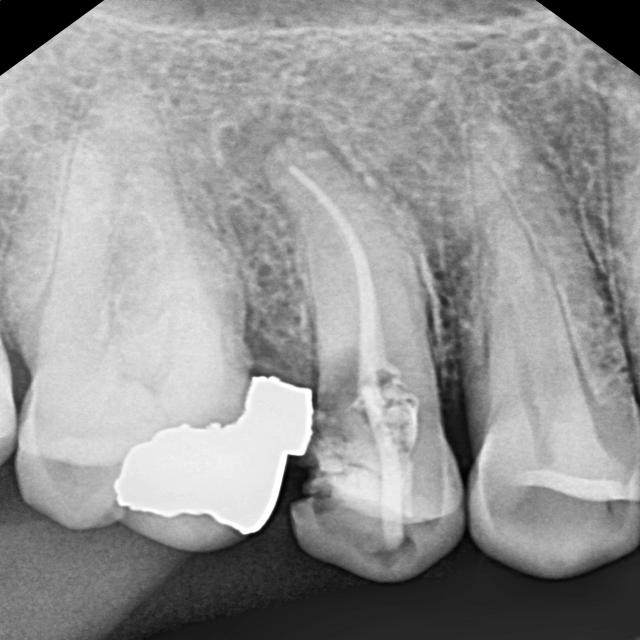RCT: (278, 142, 462, 577)
Restoration: (96, 360, 334, 558)
